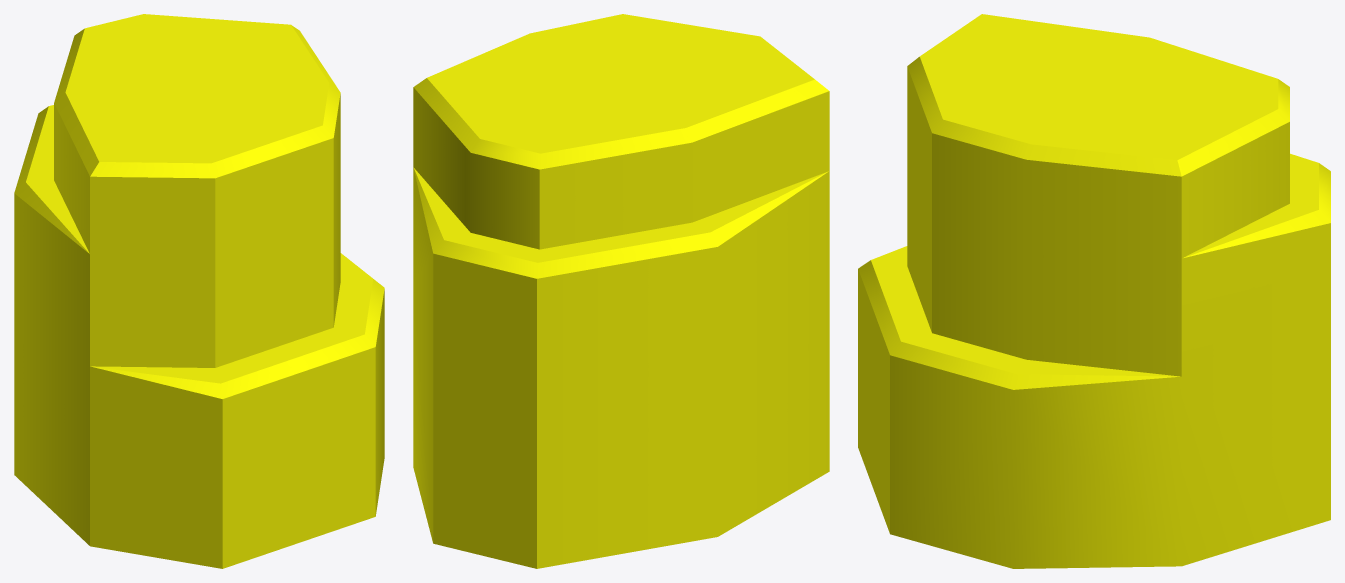
The model's file is kaykit-rock-1-i-color-1.glb.
3 renders of one model, left to right at view 1: azimuth 30°, elevation 25°; view 2: azimuth 150°, elevation 25°; view 3: azimuth 270°, elevation 25°, orthographic. The views are drawn at different scales.
Parts seen in each view (by area): view 1: Rock_1_I_Color1; view 2: Rock_1_I_Color1; view 3: Rock_1_I_Color1.
Part boxes in pixels (bbox=[...]): Rock_1_I_Color1: bbox=[14, 14, 384, 568]; Rock_1_I_Color1: bbox=[413, 14, 829, 568]; Rock_1_I_Color1: bbox=[858, 14, 1330, 568].
Size of the model in its own units: 1.61 by 1.87 by 2.
